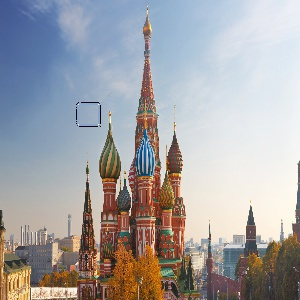square: (74, 100, 103, 130)
